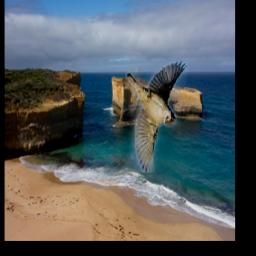Sparrow: (125, 62, 188, 174)
